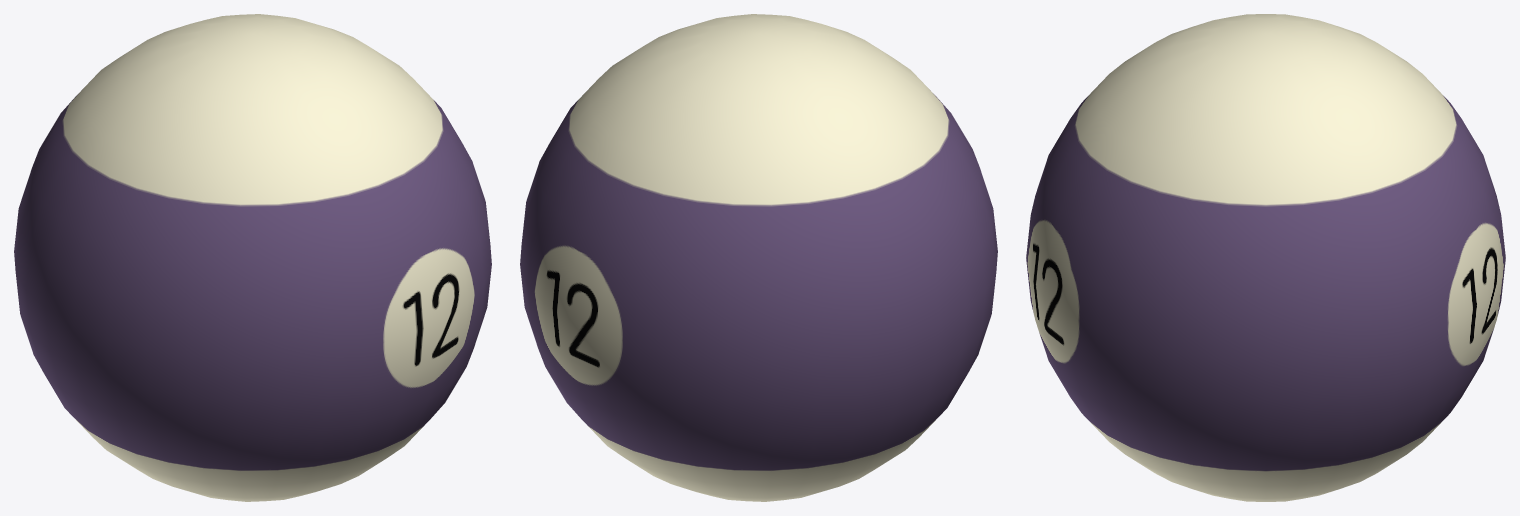
Rendered from ball_12_LOD0.fbx.
3 views of the same model, side by side, from view 1: azimuth 30°, elevation 25°; view 2: azimuth 150°, elevation 25°; view 3: azimuth 270°, elevation 25° (orthographic).
Parts seen in each view (by area): view 1: ball_12_LOD0; view 2: ball_12_LOD0; view 3: ball_12_LOD0.
Boxes of the visible parts, x1=… form: ball_12_LOD0: x1=14, y1=14, x2=491, y2=501; ball_12_LOD0: x1=520, y1=14, x2=997, y2=501; ball_12_LOD0: x1=1026, y1=14, x2=1505, y2=501.
Size of the model in its own units: 5.5 by 5.67 by 5.5.
